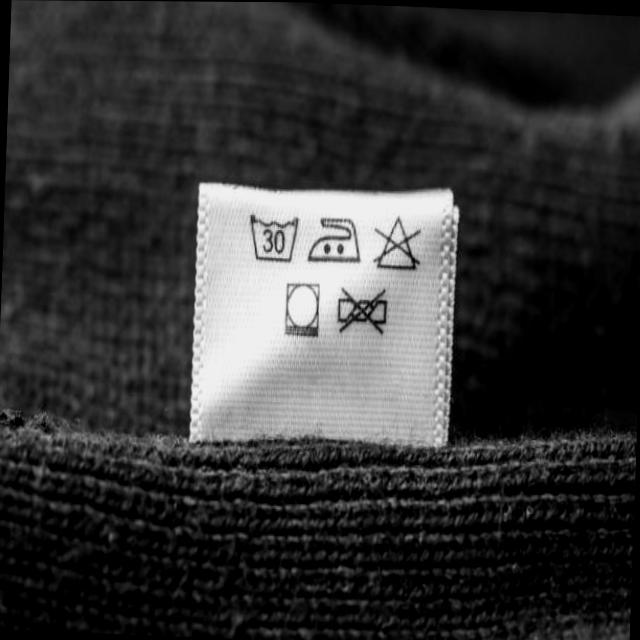30C: (247, 210, 302, 266)
DN_bleach: (373, 213, 423, 277)
DN_wring: (334, 286, 395, 335)
iron_medium: (302, 215, 363, 271)
tumble_dry_normal: (275, 279, 328, 341)
